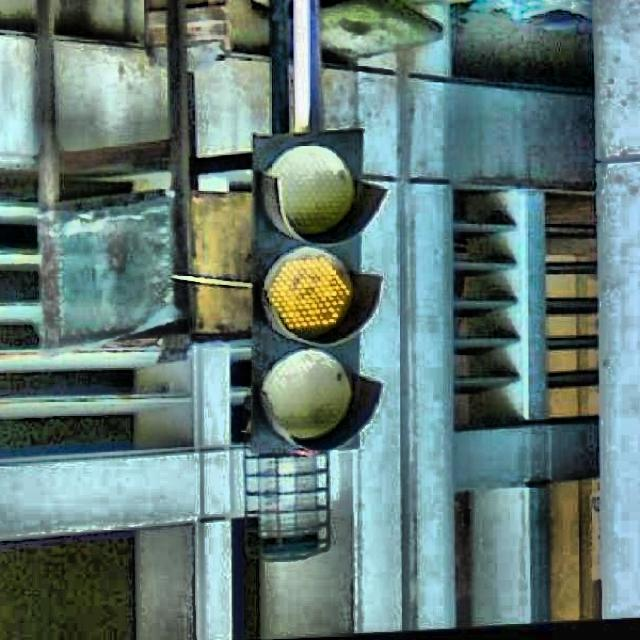yellow: (256, 133, 358, 447)
